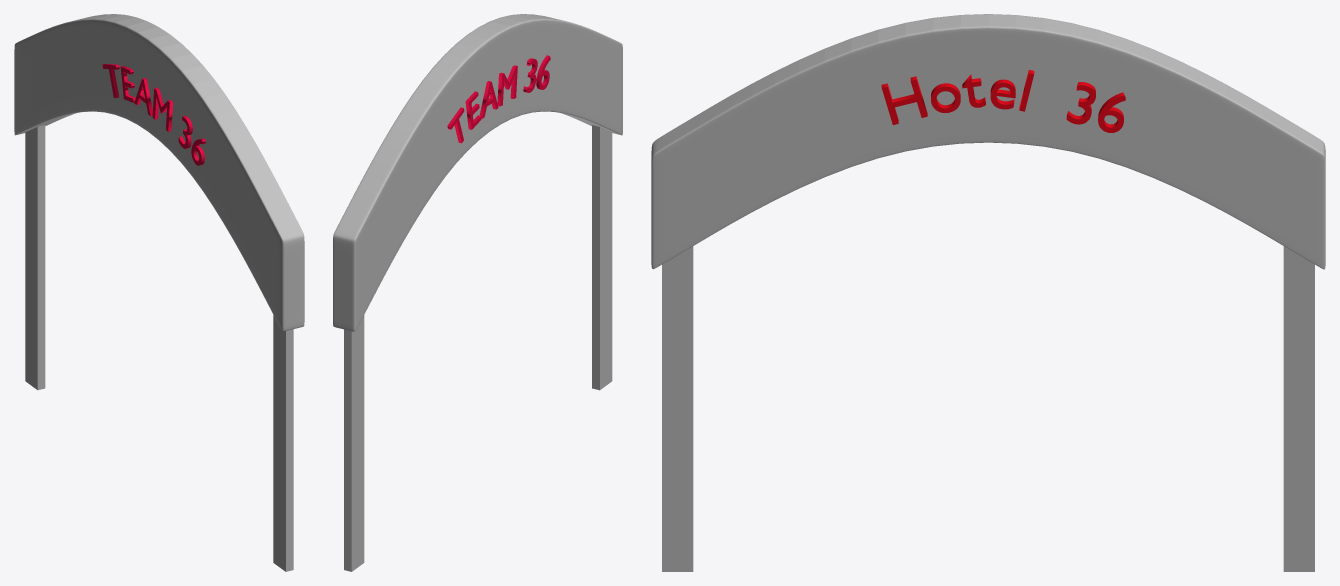
File: test_tabela.fbx
3 views of the same model, side by side, from view 1: azimuth 30°, elevation 25°; view 2: azimuth 150°, elevation 25°; view 3: azimuth 270°, elevation 25° (orthographic). The views are drawn at different scales.
Parts seen in each view (by area): view 1: Cube.002; view 2: Cube.002; view 3: Cube.002.
Boxes of the visible parts, bbox=[...] form: Cube.002: bbox=[14, 14, 304, 571]; Cube.002: bbox=[333, 14, 622, 571]; Cube.002: bbox=[651, 14, 1325, 571].
Size of the model in its own units: 77.41 by 976 by 1085.
